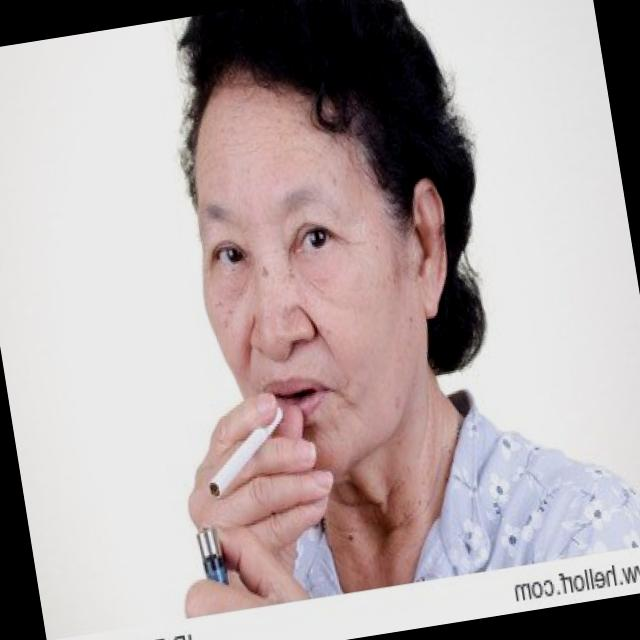cigarette: (195, 398, 298, 501)
